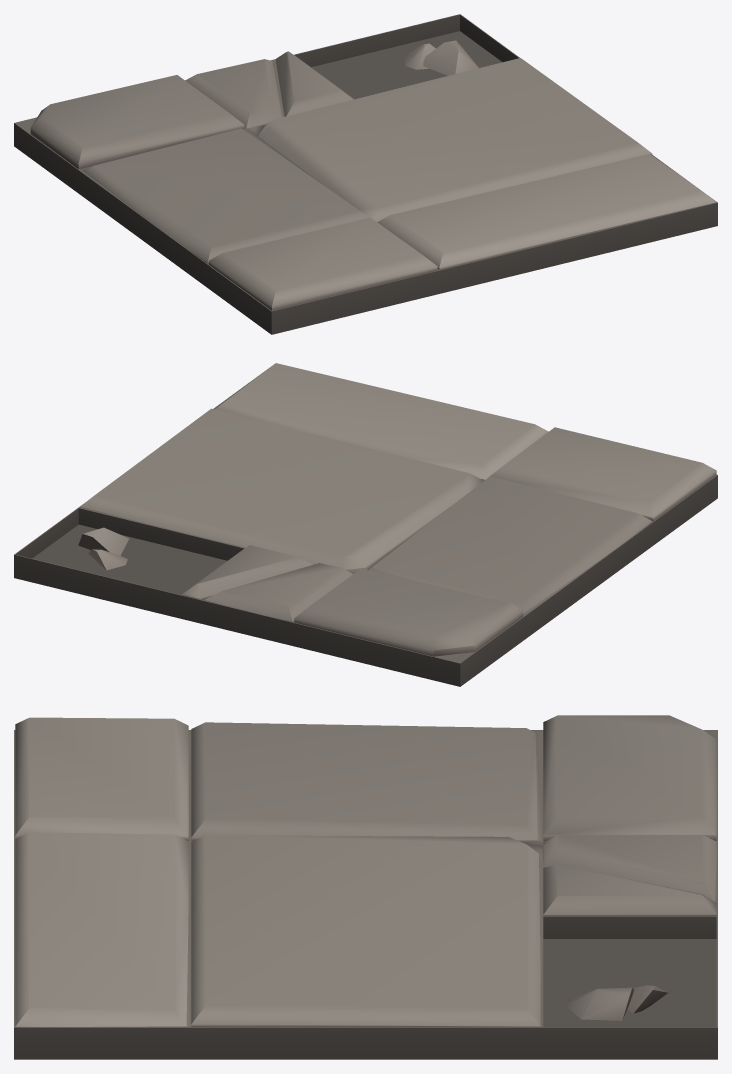
File: floor_flagstones_ruined_small_D.glb
3 renders of one model, top to bottom at view 1: azimuth 30°, elevation 25°; view 2: azimuth 150°, elevation 25°; view 3: azimuth 270°, elevation 25°, orthographic. The views are drawn at different scales.
Parts seen in each view (by area): view 1: Item; view 2: Item; view 3: Item.
Part boxes in pixels (x1,y1,x2,y2): Item: (14, 14, 717, 334); Item: (14, 363, 717, 686); Item: (14, 715, 717, 1059).
Size of the model in its own units: 2 by 0.1668 by 2.
Materials: 1 (1 with a texture image).
